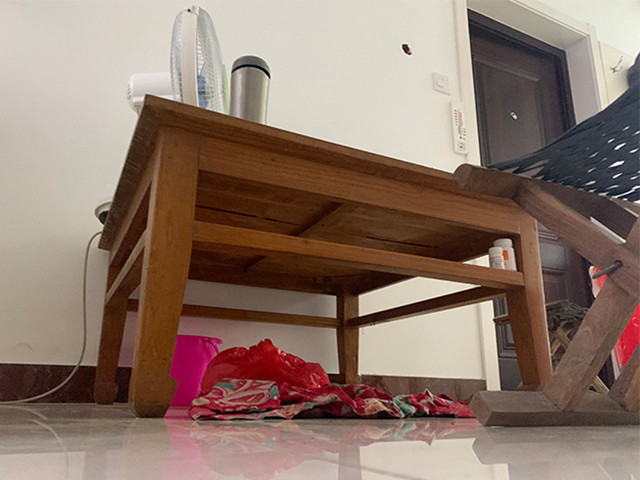stool: (452, 52, 640, 426)
table: (92, 93, 551, 418)
wire: (2, 231, 101, 406)
